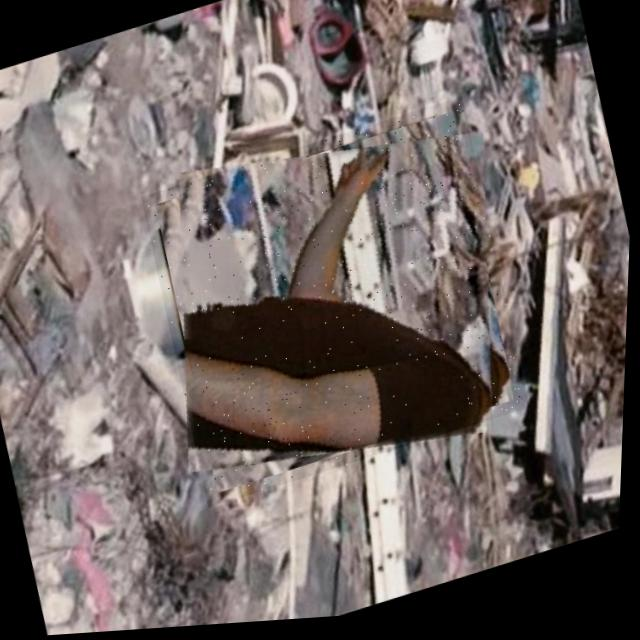Person in Rubble: (132, 98, 541, 515)
